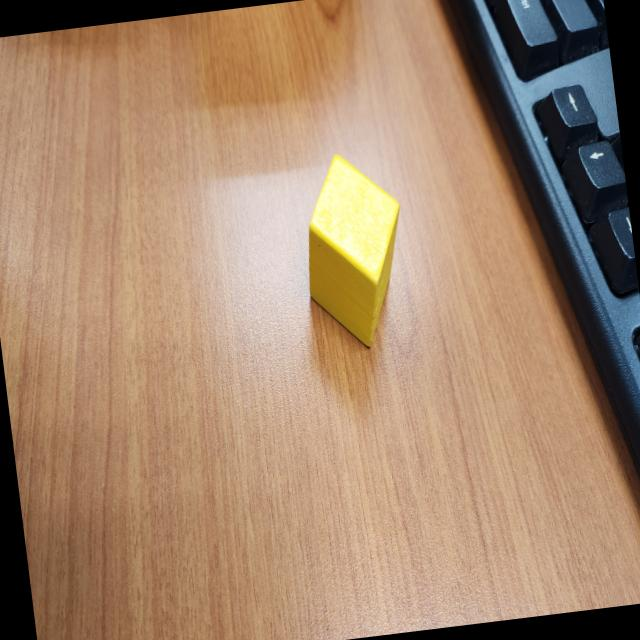yellow: (309, 154, 399, 348)
